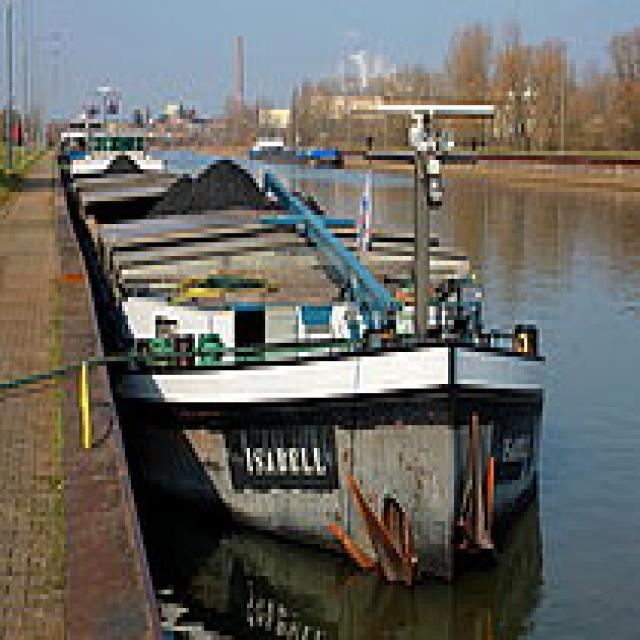Ship: (74, 92, 556, 591)
